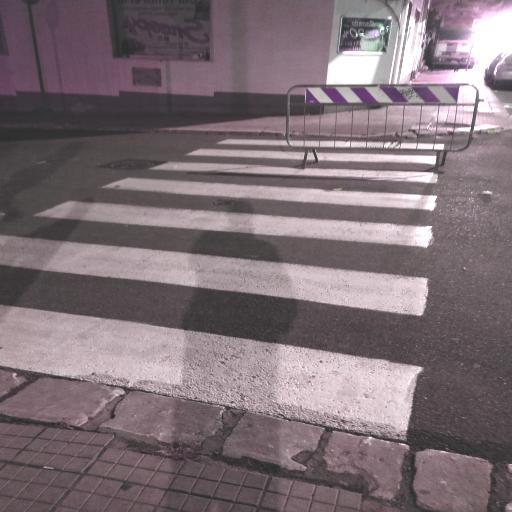crosswalk: (1, 198, 443, 319)
